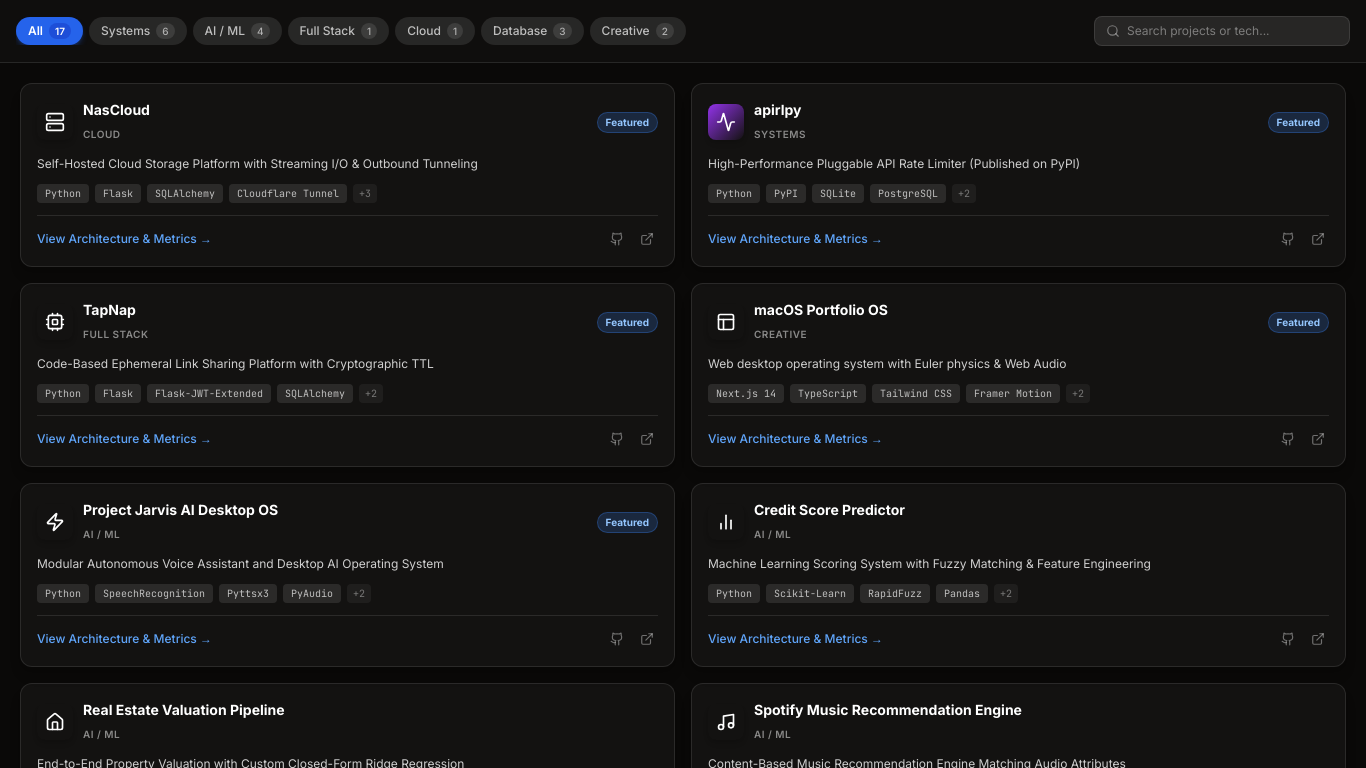
Scenario: Applications Suite: 6 macOS Interactive Applications › ProjectsApp › opens project detail modal when card is clicked and closes on dismiss button
The image size is (1366, 768).
Step 1. Click the element with test id "project-card-nascloud" → (348,175), box x1=20 y1=83 x2=675 y2=267
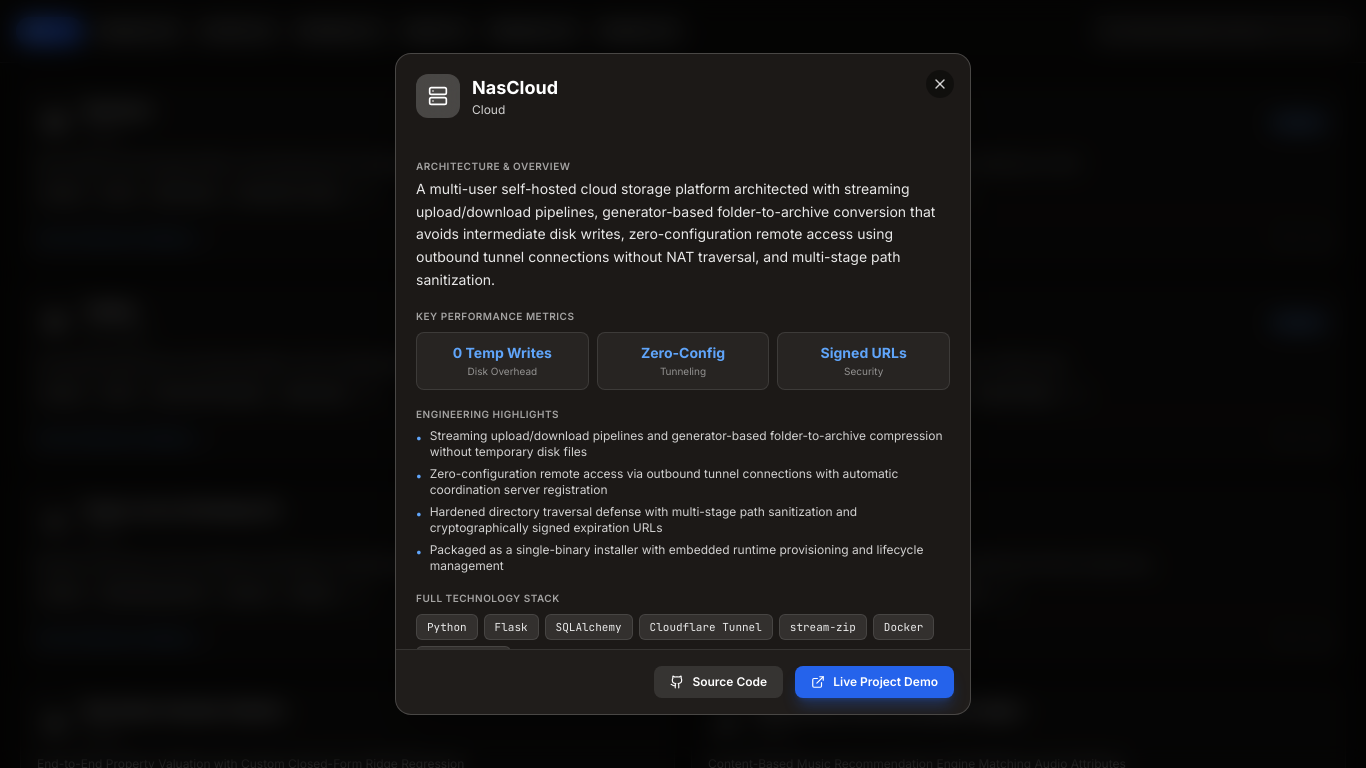
Now the element with test id "project-modal" is shown
Now the heading "Key Performance Metrics" is shown, box x1=416 y1=310 x2=574 y2=322
Now the heading "Engineering Highlights" is shown, box x1=416 y1=408 x2=559 y2=420
Step 2. Click the button with test id "project-modal-close" → (940,84), box x1=926 y1=70 x2=954 y2=98
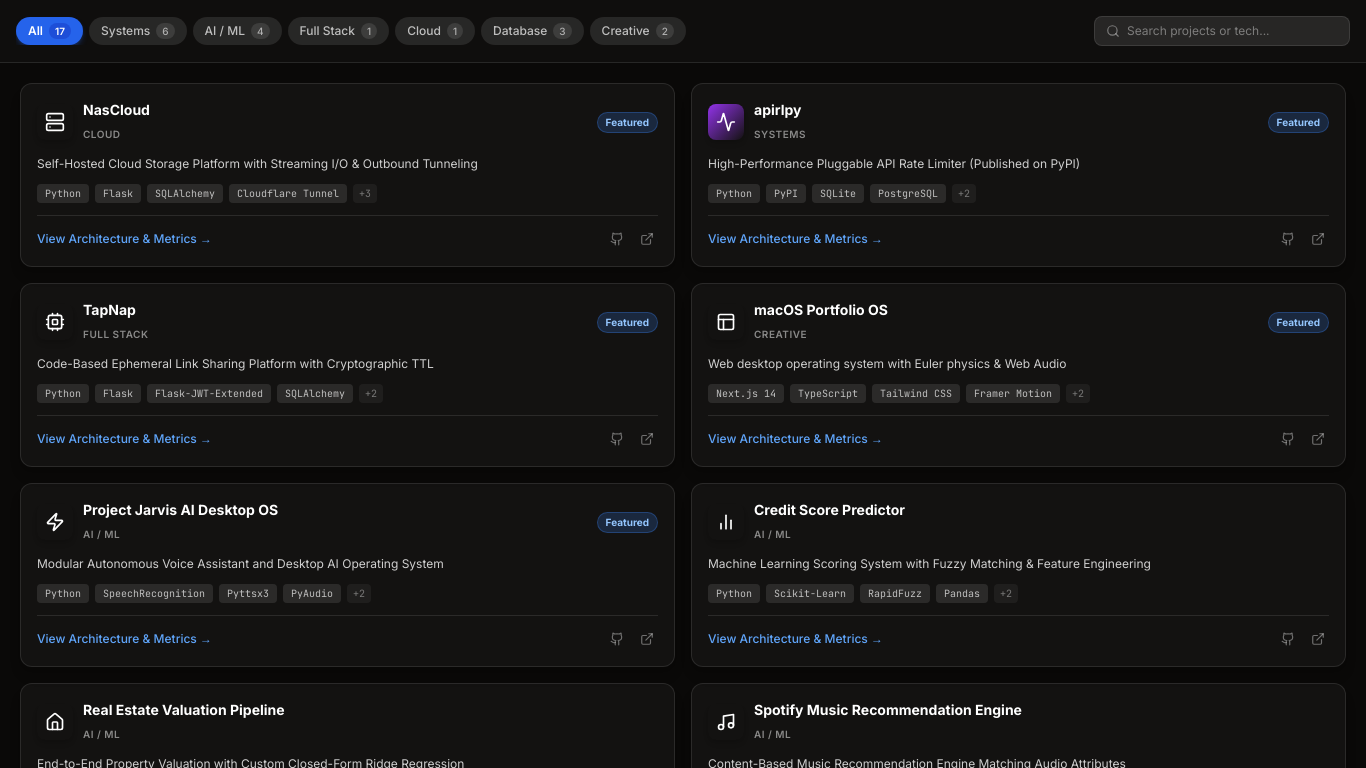
Now the element with test id "project-modal" is gone
